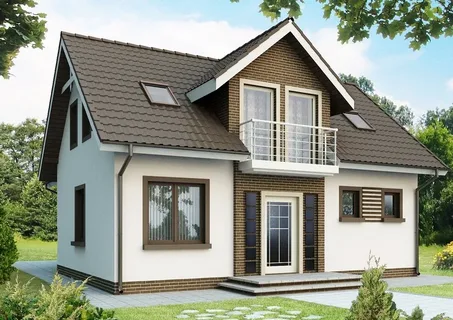private_hause: (56, 19, 422, 281)
